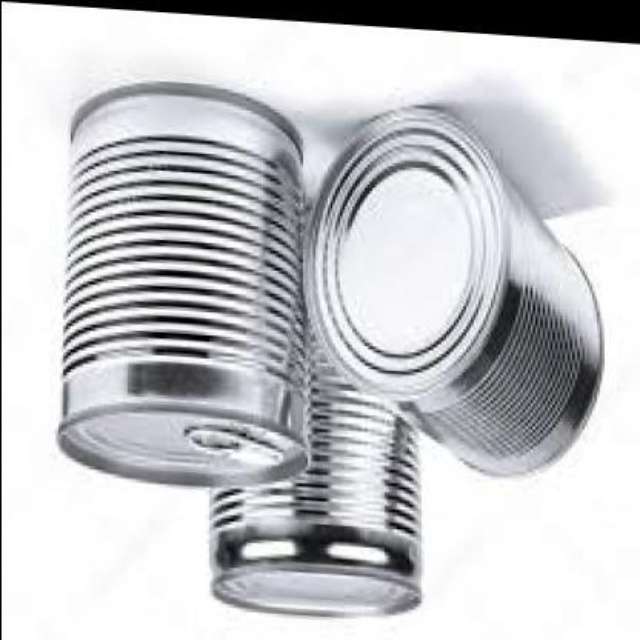trash: (58, 82, 602, 614), (305, 105, 602, 474), (58, 82, 305, 485), (338, 168, 471, 352), (342, 169, 466, 348)
